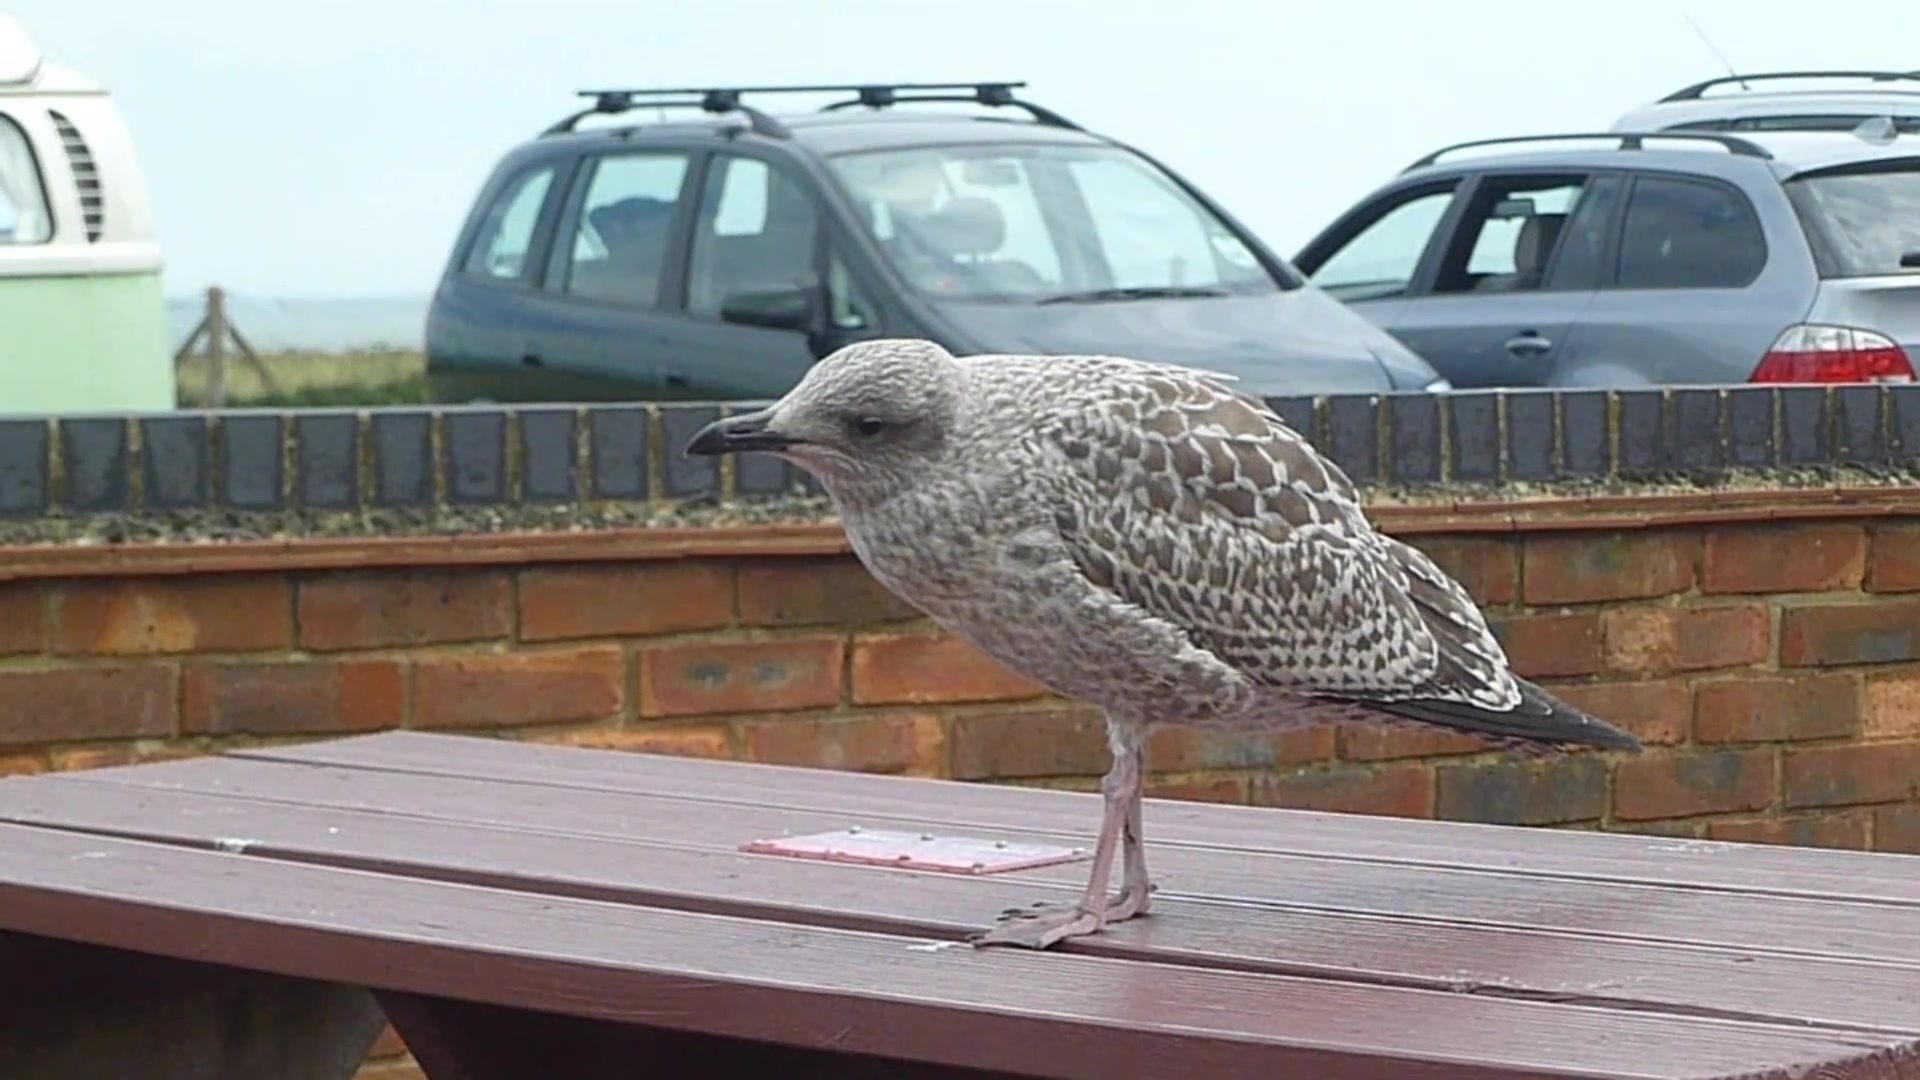bird: (683, 342, 1647, 953)
